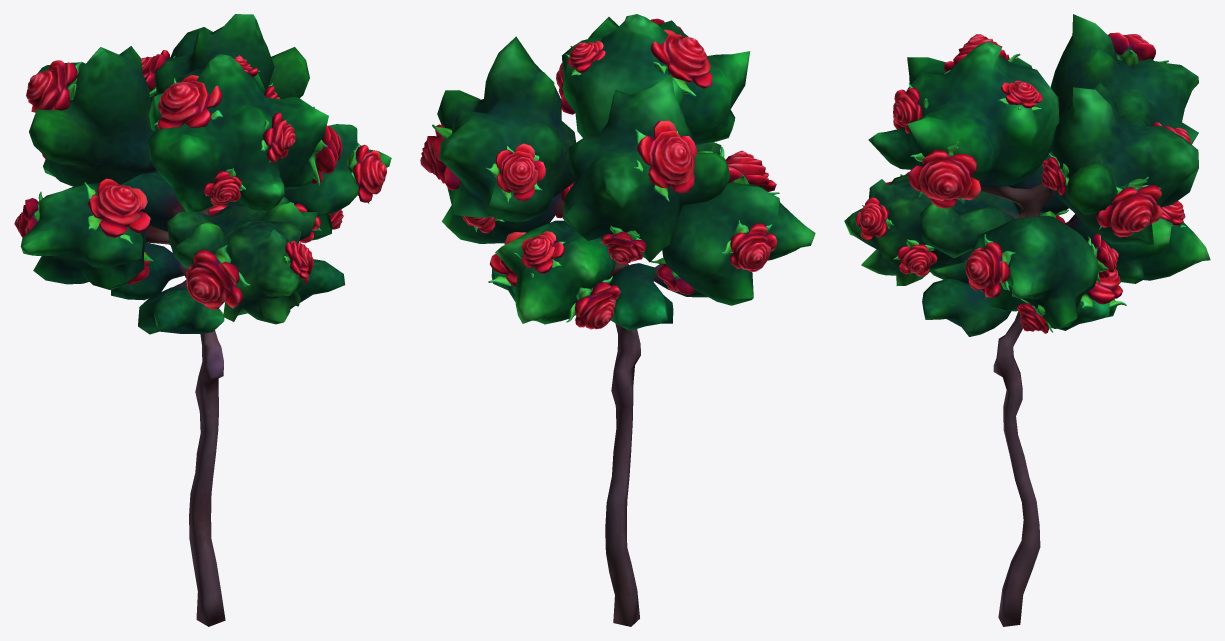
The model's file is Red_DEFAULT.dae.
The picture shows the model from 3 angles, left to right: view 1: azimuth 30°, elevation 25°; view 2: azimuth 150°, elevation 25°; view 3: azimuth 270°, elevation 25°; orthographic projection. The views are drawn at different scales.
Parts seen in each view (by area): view 1: mesh10, mesh4, mesh17, mesh16, mesh14, mesh8, mesh15, mesh9, mesh18, mesh19, mesh23, mesh3; view 2: mesh10, mesh14, mesh16, mesh3, mesh23, mesh7, mesh13, mesh4, mesh6, mesh22, mesh21, mesh20 (+1 smaller); view 3: mesh10, mesh15, mesh6, mesh8, mesh14, mesh12, mesh19, mesh9, mesh20, mesh21, mesh5, mesh11 (+2 smaller).
Boxes of the visible parts, left/top/right/bottom form: mesh10: left=20, top=14, right=391, bottom=626; mesh4: left=84, top=178, right=150, bottom=244; mesh17: left=186, top=245, right=250, bottom=309; mesh16: left=154, top=75, right=222, bottom=129; mesh14: left=26, top=60, right=82, bottom=112; mesh8: left=347, top=143, right=386, bottom=203; mesh15: left=309, top=106, right=342, bottom=186; mesh9: left=260, top=112, right=295, bottom=163; mesh18: left=203, top=168, right=245, bottom=206; mesh19: left=283, top=240, right=311, bottom=278; mesh23: left=14, top=191, right=42, bottom=237; mesh3: left=141, top=50, right=175, bottom=96; mesh10: left=437, top=14, right=815, bottom=626; mesh14: left=633, top=120, right=697, bottom=201; mesh16: left=651, top=29, right=712, bottom=96; mesh3: left=485, top=143, right=545, bottom=203; mesh23: left=720, top=220, right=777, bottom=271; mesh7: left=566, top=276, right=620, bottom=329; mesh13: left=513, top=231, right=565, bottom=277; mesh4: left=726, top=150, right=779, bottom=194; mesh6: left=420, top=124, right=460, bottom=190; mesh22: left=597, top=225, right=646, bottom=263; mesh21: left=565, top=40, right=605, bottom=75; mesh20: left=488, top=232, right=526, bottom=286; mesh10: left=844, top=14, right=1210, bottom=626; mesh15: left=908, top=141, right=981, bottom=208; mesh6: left=1096, top=176, right=1162, bottom=237; mesh8: left=965, top=234, right=1015, bottom=299; mesh14: left=1108, top=32, right=1168, bottom=66; mesh12: left=893, top=239, right=937, bottom=276; mesh19: left=855, top=197, right=893, bottom=240; mesh9: left=893, top=82, right=928, bottom=133; mesh20: left=1079, top=268, right=1126, bottom=308; mesh21: left=997, top=80, right=1042, bottom=111; mesh5: left=1087, top=234, right=1118, bottom=284; mesh11: left=1041, top=153, right=1069, bottom=195.
Size of the model in its own units: 1.98 by 2.95 by 1.69.
